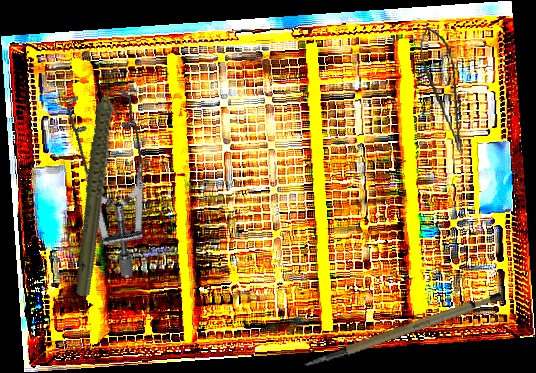Handpiece: (29, 63, 171, 299)
Micro Scissor: (416, 23, 467, 157)
Scalpel Handle: (295, 289, 509, 368)
Speculum: (3, 63, 204, 281)
